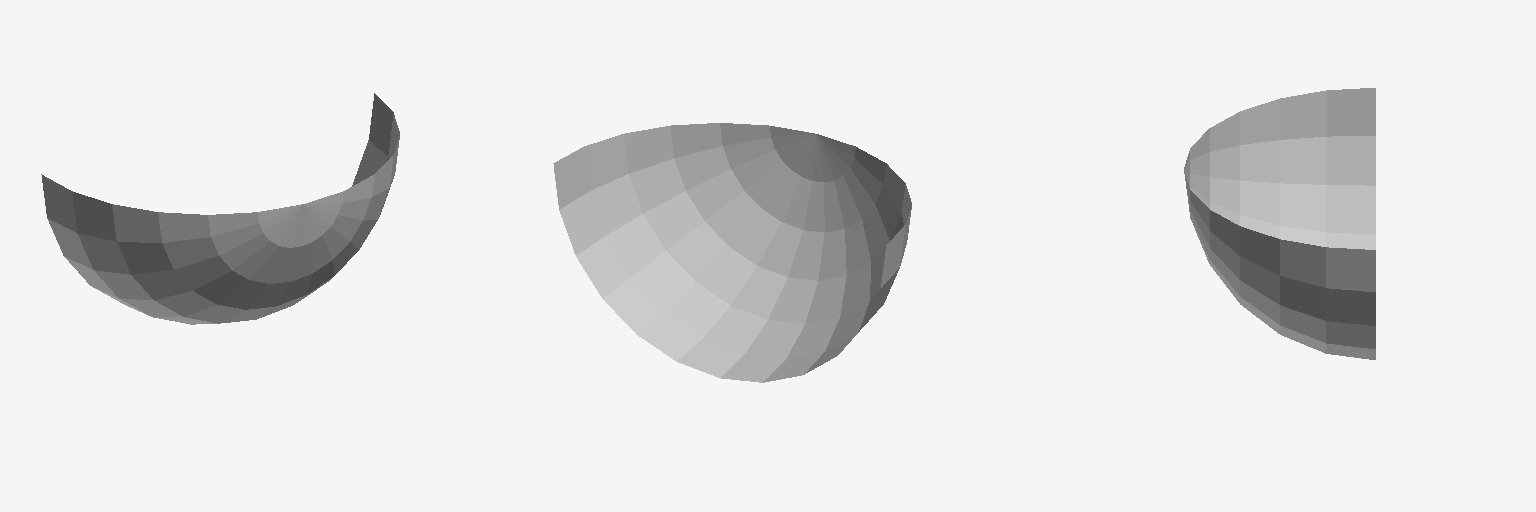
File: eyeLid.obj
The picture shows the model from 3 angles: view 1: azimuth 30°, elevation 25°; view 2: azimuth 150°, elevation 25°; view 3: azimuth 270°, elevation 25°; orthographic projection.
Parts seen in each view (by area): view 1: unnamed_object1; view 2: unnamed_object1; view 3: unnamed_object1.
Boxes of the visible parts, x1=… form: unnamed_object1: x1=41, y1=93, x2=399, y2=324; unnamed_object1: x1=553, y1=123, x2=911, y2=382; unnamed_object1: x1=1184, y1=88, x2=1375, y2=359.
Size of the model in its own units: 2.75 by 1.38 by 1.38.